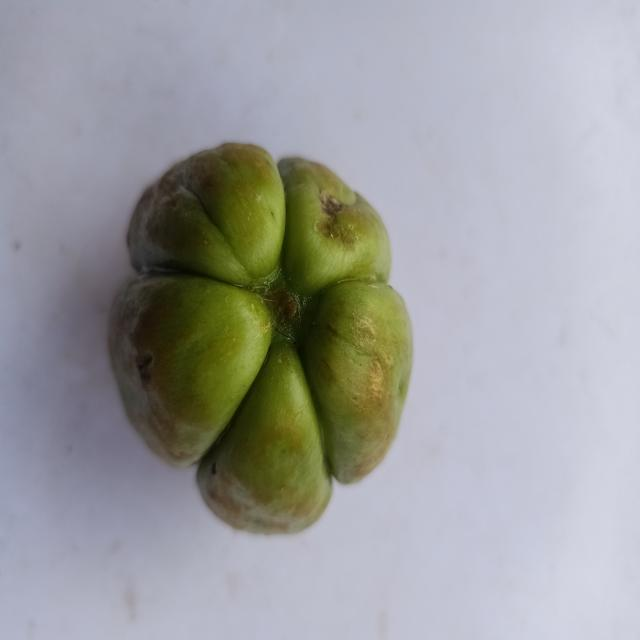Chayote: (106, 122, 434, 560)
